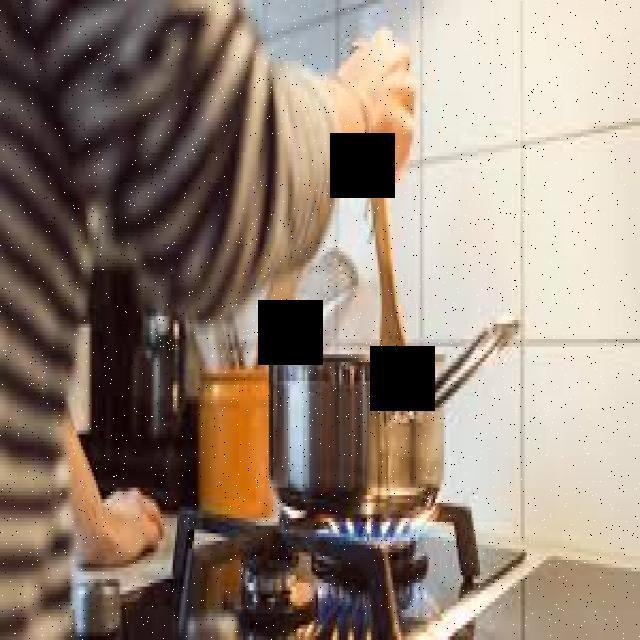Flame: (316, 508, 445, 552)
Pan: (270, 324, 505, 514)
